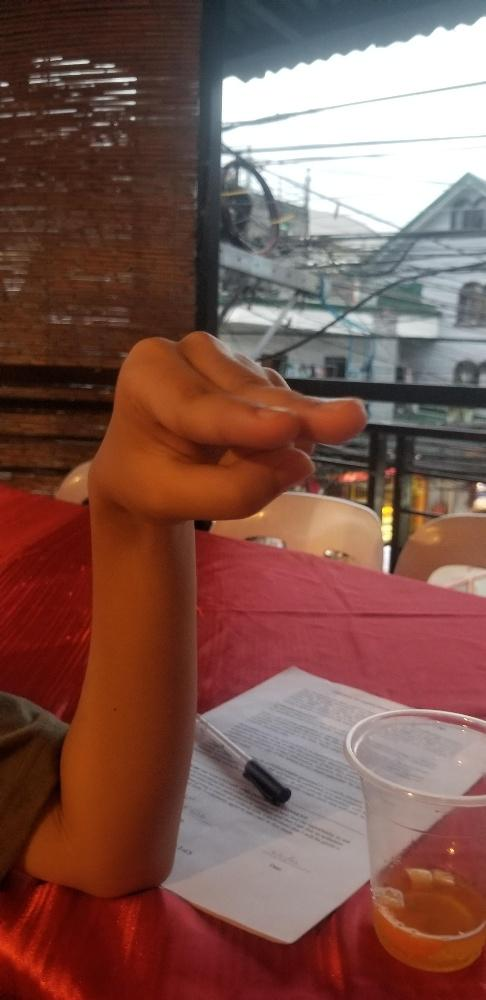n: (85, 328, 371, 522)
